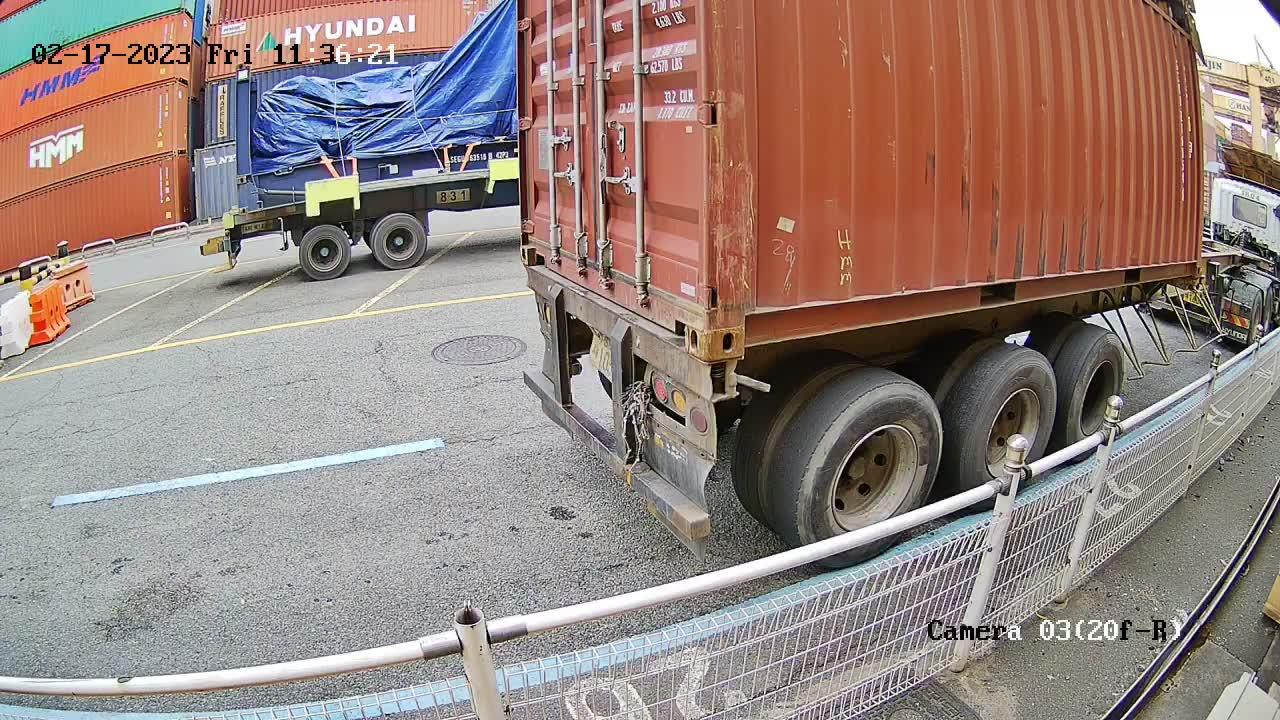Chassis: (524, 266, 710, 403)
Cone: (706, 357, 744, 404)
Hole_L: (706, 288, 780, 360), (518, 219, 555, 274)
Hole_R: (666, 276, 709, 361)
Tire: (801, 385, 940, 563), (966, 355, 1057, 503), (1067, 336, 1125, 453)
